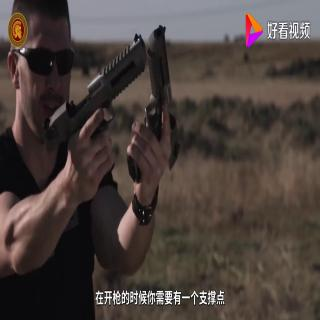gun: (57, 34, 145, 188), (128, 21, 189, 196)
